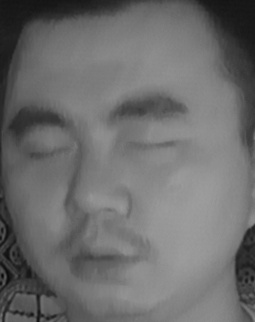blink: (122, 122, 177, 160), (21, 132, 73, 171)
mouth: (57, 228, 143, 288)
